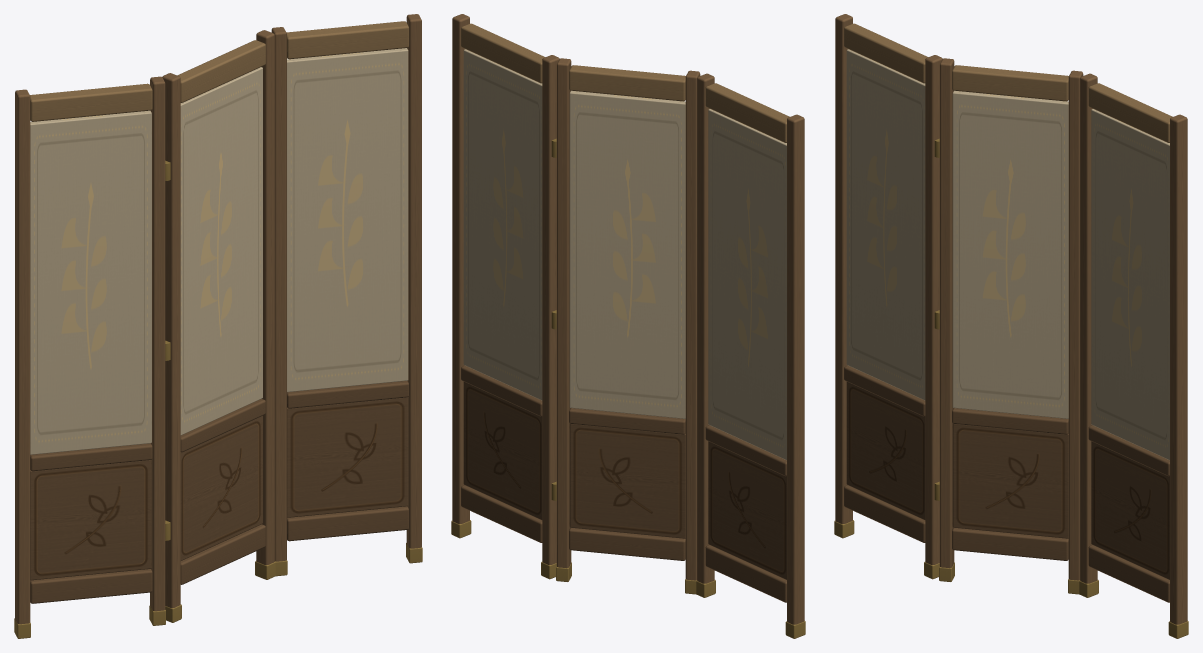
Rendered from biombo.glb.
The picture shows the model from 3 angles, left to right: view 1: azimuth 30°, elevation 25°; view 2: azimuth 150°, elevation 25°; view 3: azimuth 330°, elevation 25°; orthographic projection. The views are drawn at different scales.
Visible parts, largest first — view 1: biombo; view 2: biombo; view 3: biombo.
Part boxes in pixels (<box>): biombo: <box>14,14,422,638</box>; biombo: <box>451,14,805,638</box>; biombo: <box>834,14,1188,638</box>.
Size of the model in its own units: 1.19 by 1.6 by 0.1615.
1 material, 1 textured.
